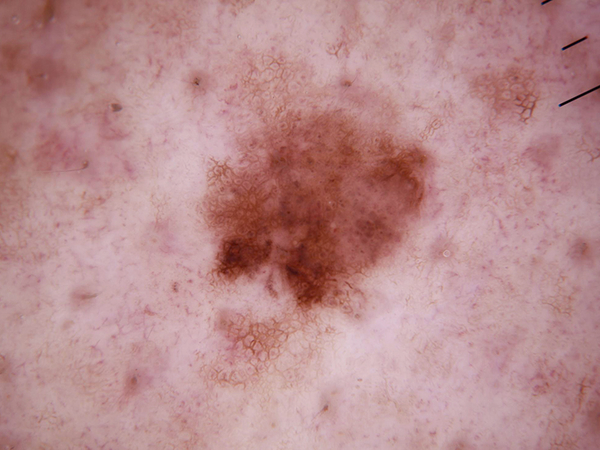Detected Lesion: (200, 103, 430, 332)
